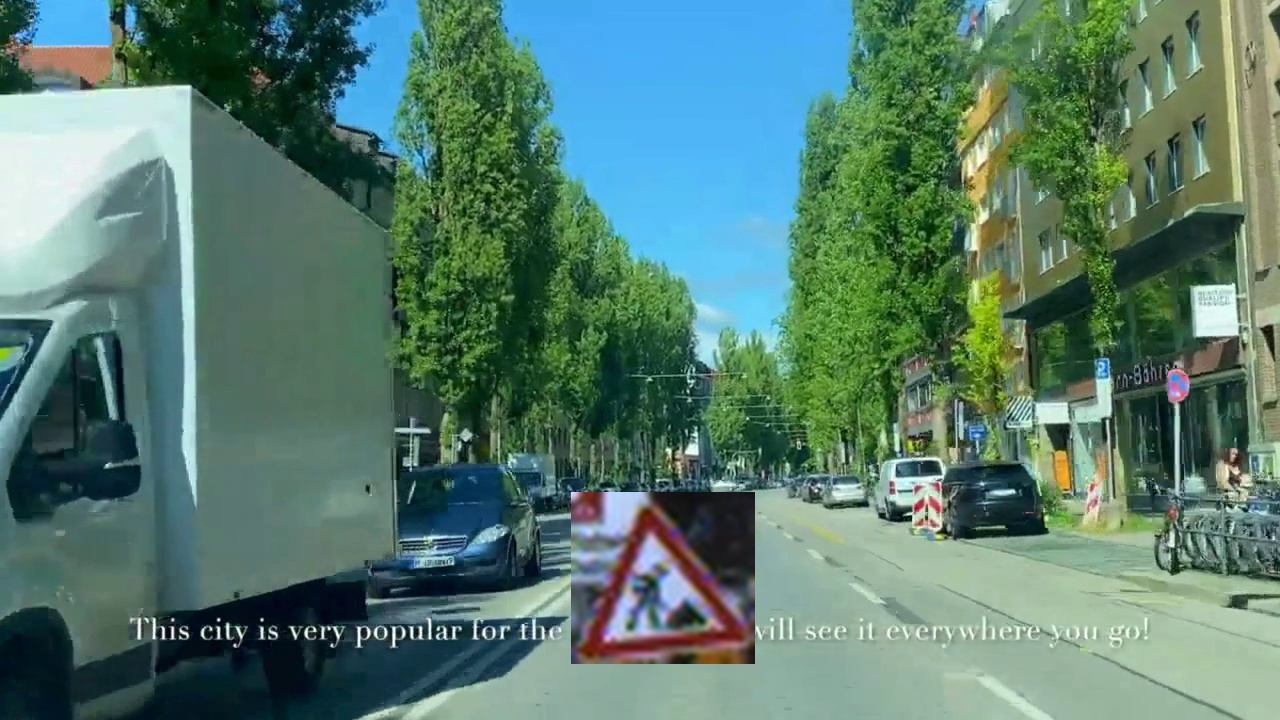Road work: (571, 492, 755, 664)
